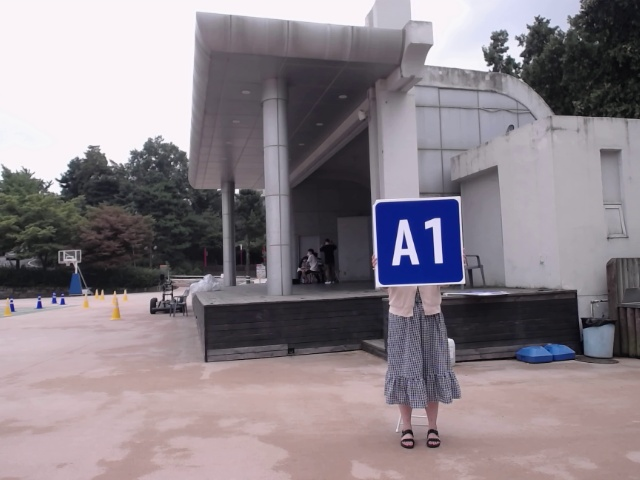delivery_a1: (374, 196, 465, 286)
